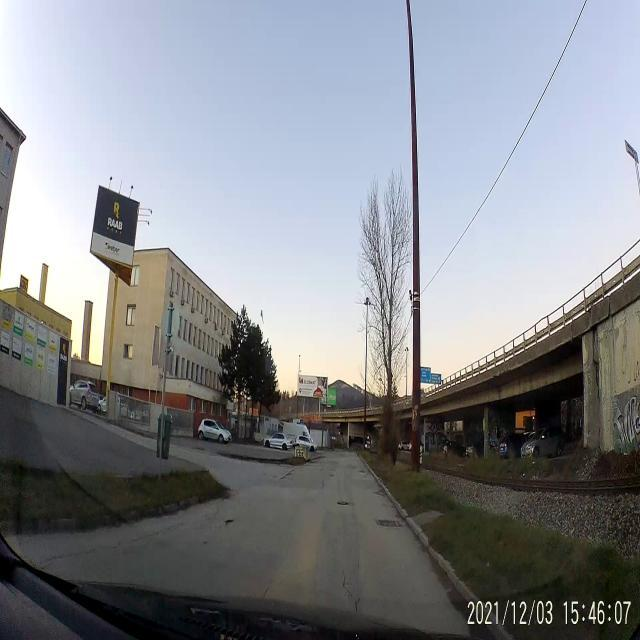Manhole: (374, 517, 400, 530)
Pothole: (280, 468, 298, 482), (338, 496, 352, 508), (223, 516, 234, 528), (356, 466, 367, 477)
